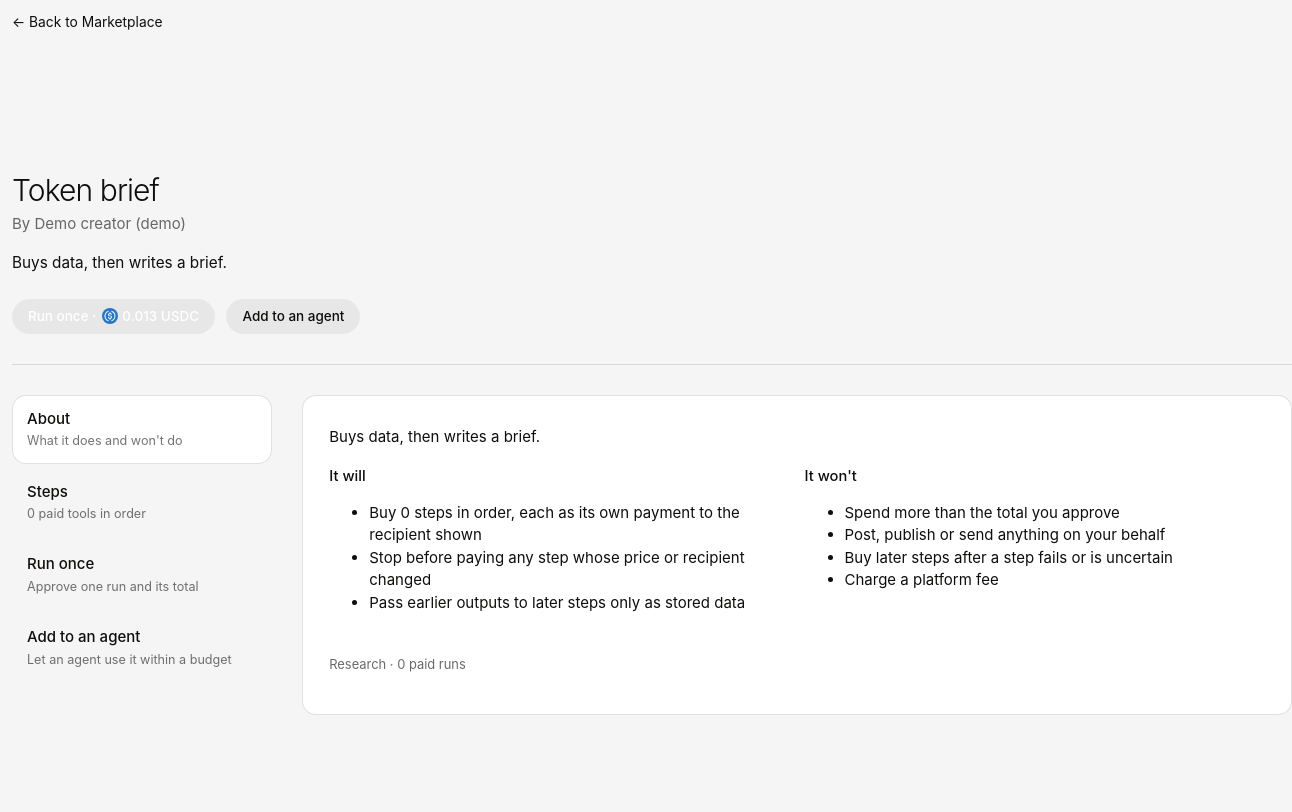
Test: run-once agent picker › explains whose limits apply and lists only agents that can hire
This screenshot has width=1292, height=812.
Click the button "Run once Approve one run and its total". click: click(61, 564)
box: top-left (12, 541), bottom-right (272, 610)
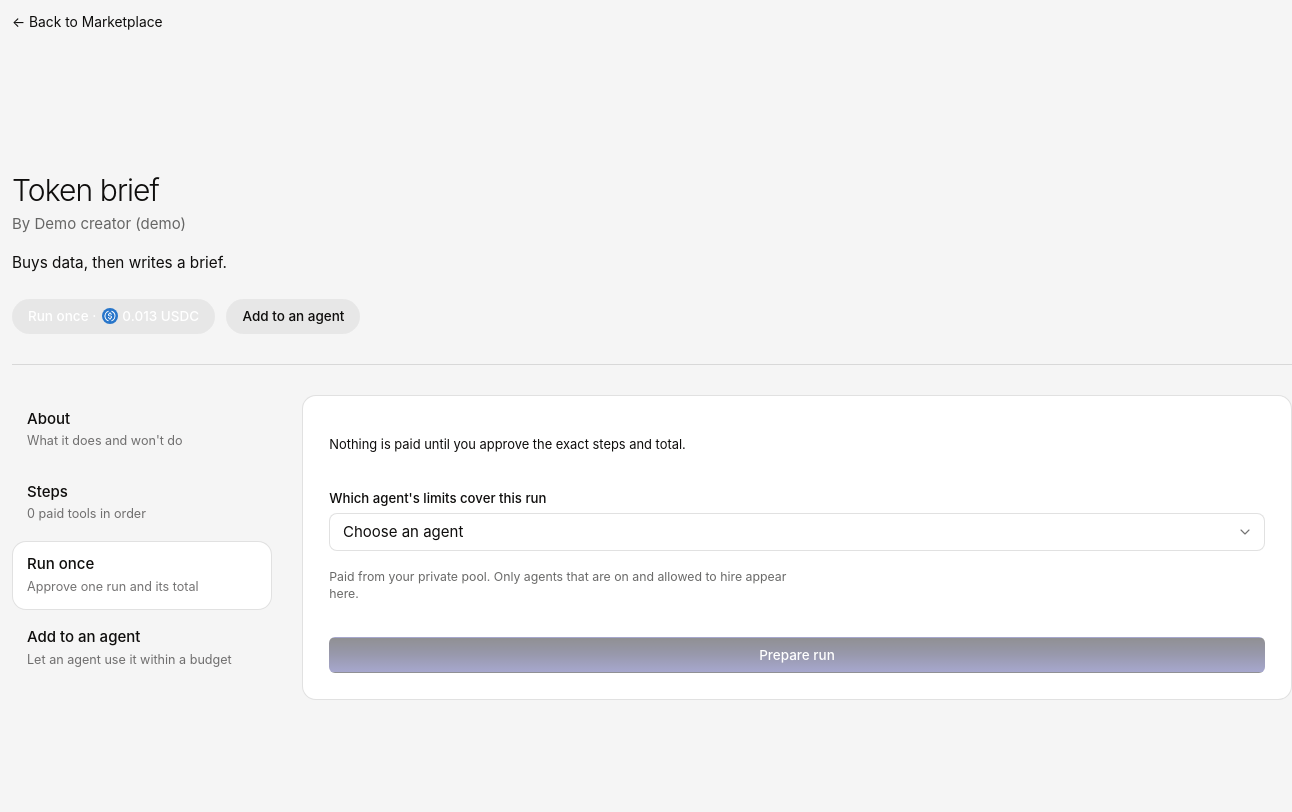
Expected: the text "Which agent's limits cover this run" is shown, top-left (329, 490), bottom-right (546, 506)
Expected: the text "Paid from your private pool. Only agents that are on and allowed to hire appear here." is shown, top-left (329, 569), bottom-right (786, 601)
Click the button with aria-label "Which agent's limits cover this run". click: click(403, 531)
box: top-left (329, 513), bottom-right (1265, 551)
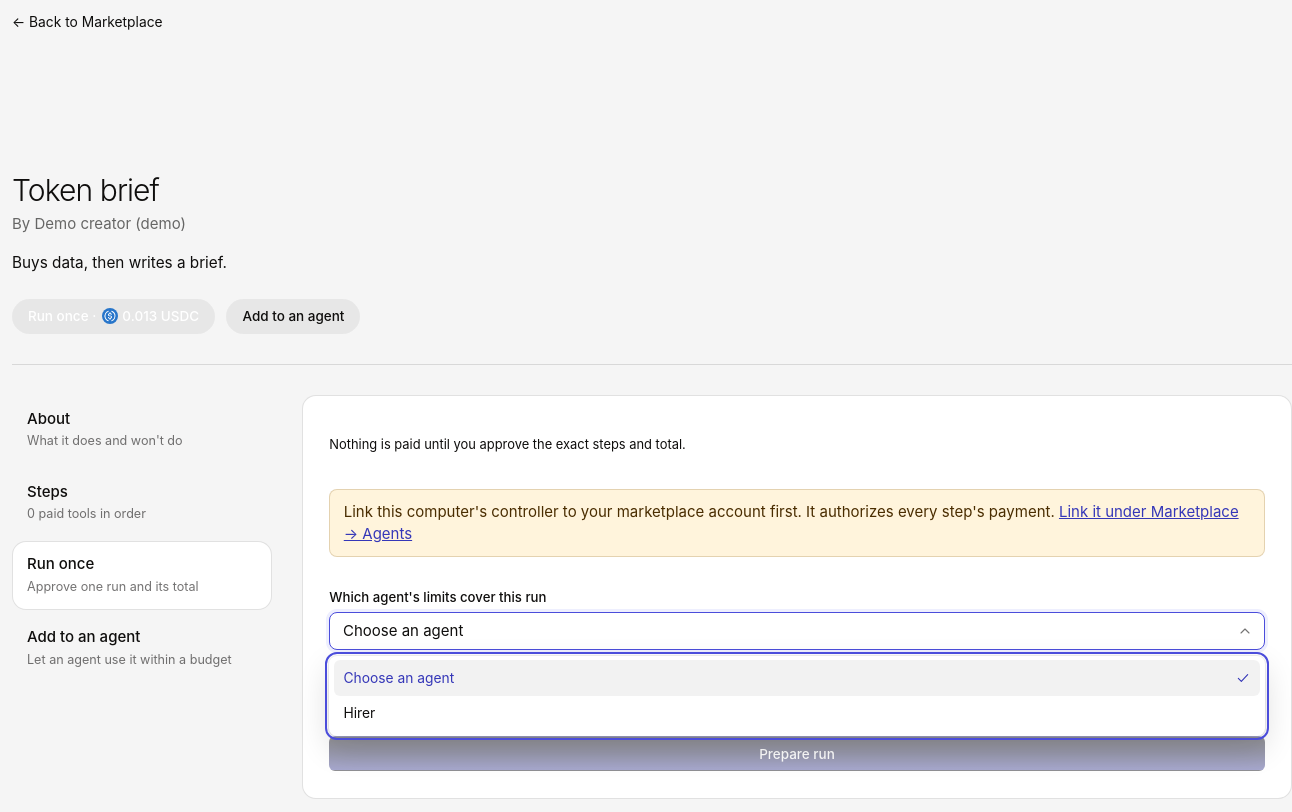
Expected: the options read "Choose an agent", "Hirer", in this order, top-left (334, 660), bottom-right (1260, 696); top-left (344, 705), bottom-right (375, 721)
